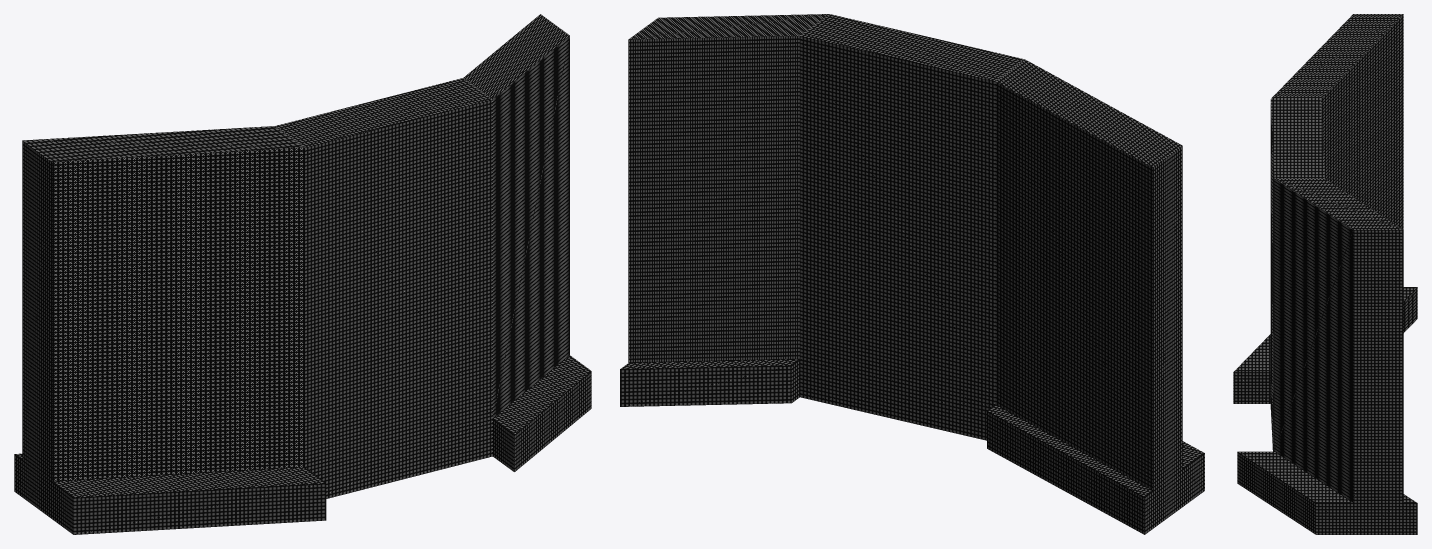
File: WallDefender.obj
3 renders of one model, left to right at view 1: azimuth 30°, elevation 25°; view 2: azimuth 150°, elevation 25°; view 3: azimuth 270°, elevation 25°, orthographic. The views are drawn at different scales.
Visible parts, largest first — view 1: WallDefender; view 2: WallDefender; view 3: WallDefender.
Part boxes in pixels (left/top/right/bottom): WallDefender: left=14, top=14, right=591, bottom=534; WallDefender: left=620, top=14, right=1204, bottom=534; WallDefender: left=1233, top=14, right=1417, bottom=534.
Bounding box in the file's own units: 146 × 95.92 × 52.51.
Materials: 1 (1 with a texture image).
